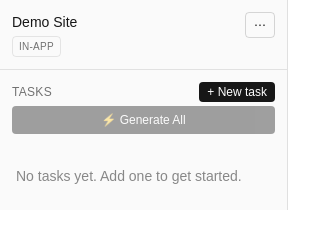
Sidebar project draft input (BI-067.2) › discards a typed Rename draft on Escape and reopens with the current name
Click the button with aria-label "Rename Demo Site" at (45, 22), box [12, 12, 77, 32]
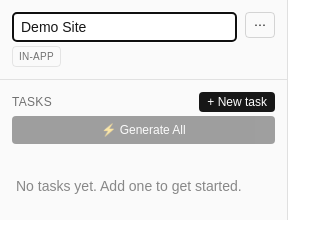
Replace the text in the field named "Project name" with "Acme Site" at (124, 27), box [12, 12, 237, 42]
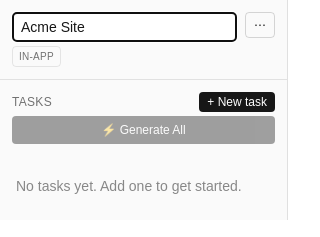
Press Escape in the field named "Project name", box [12, 12, 237, 42]
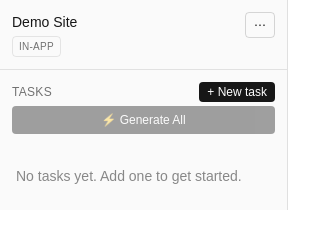
Result: the button with aria-label "Rename Demo Site" is shown
Click the button with aria-label "Rename Demo Site" at (45, 22), box [12, 12, 77, 32]
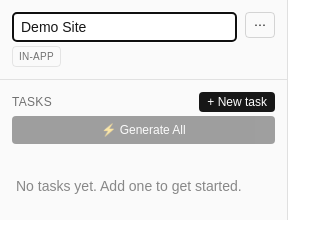
Result: the field named "Project name" holds "Demo Site" at [12, 12, 237, 42]
